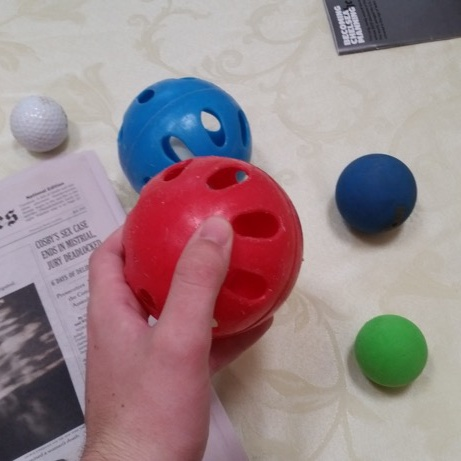ball: (118, 160, 304, 334), (122, 78, 252, 206)
